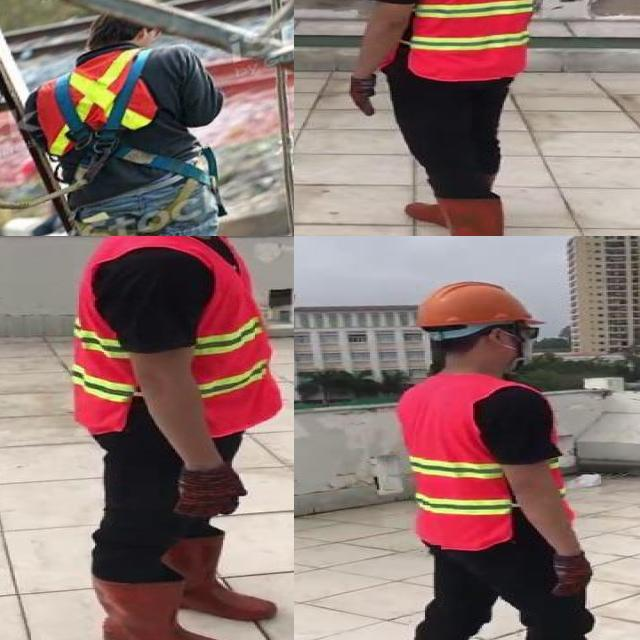Harness: (55, 49, 210, 186)
boots: (91, 574, 249, 640), (158, 534, 276, 621), (407, 190, 507, 236)
hand_glove: (170, 466, 248, 516), (548, 553, 596, 596), (349, 75, 381, 116)
head_helmet: (412, 280, 548, 330)
person: (54, 236, 294, 640), (379, 276, 640, 640), (337, 0, 568, 236)
vest: (73, 236, 278, 435), (397, 372, 570, 548), (397, 0, 551, 83)
